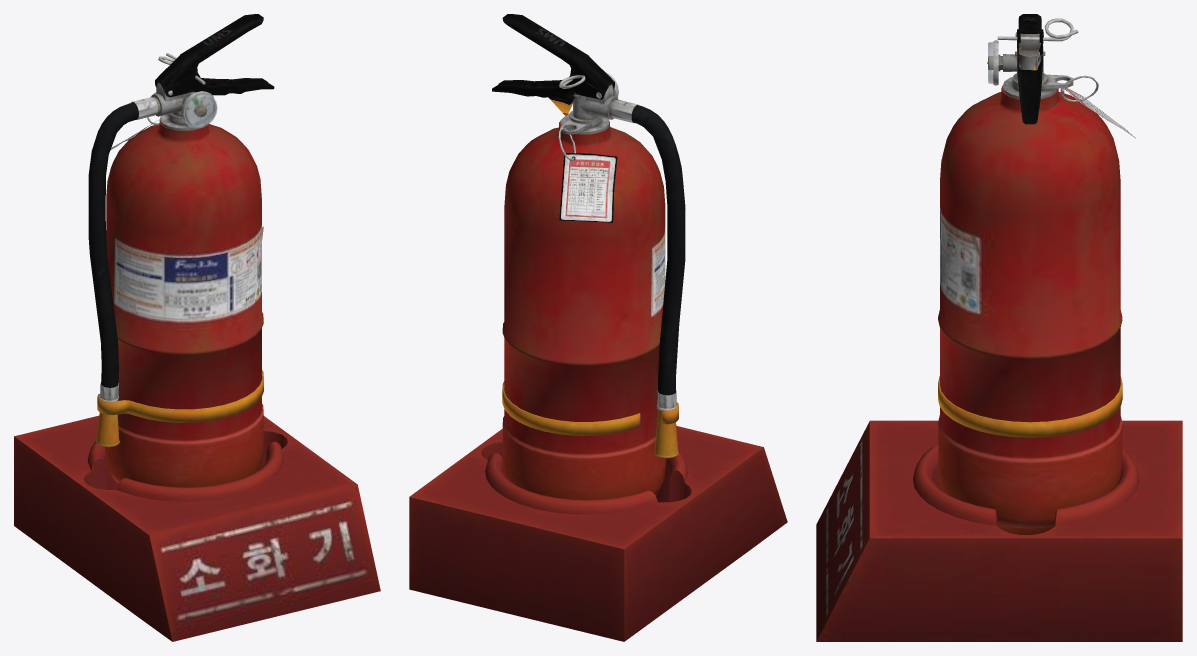
The model's file is korean_fire_extinguisher_01.gltf.
3 renders of one model, left to right at view 1: azimuth 30°, elevation 25°; view 2: azimuth 150°, elevation 25°; view 3: azimuth 270°, elevation 25°, orthographic. The views are drawn at different scales.
Visible parts, largest first — view 1: korean_fire_extinguisher_01; view 2: korean_fire_extinguisher_01; view 3: korean_fire_extinguisher_01.
Part boxes in pixels (left/top/right/bottom): korean_fire_extinguisher_01: left=14, top=14, right=380, bottom=641; korean_fire_extinguisher_01: left=409, top=14, right=787, bottom=641; korean_fire_extinguisher_01: left=816, top=14, right=1182, bottom=641.
Bounding box in the file's own units: 0.2795 × 0.6591 × 0.3674.
3 materials, 3 textured.
